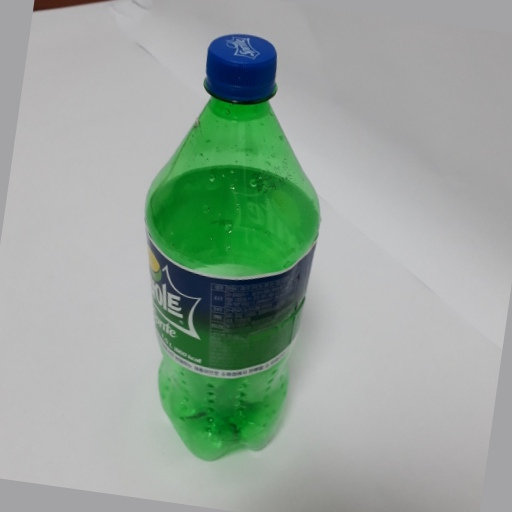Plastic_0: (137, 32, 324, 461)
